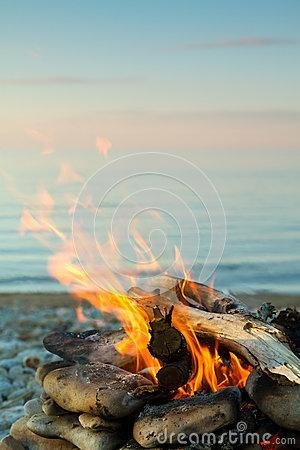fire: (44, 228, 248, 403)
